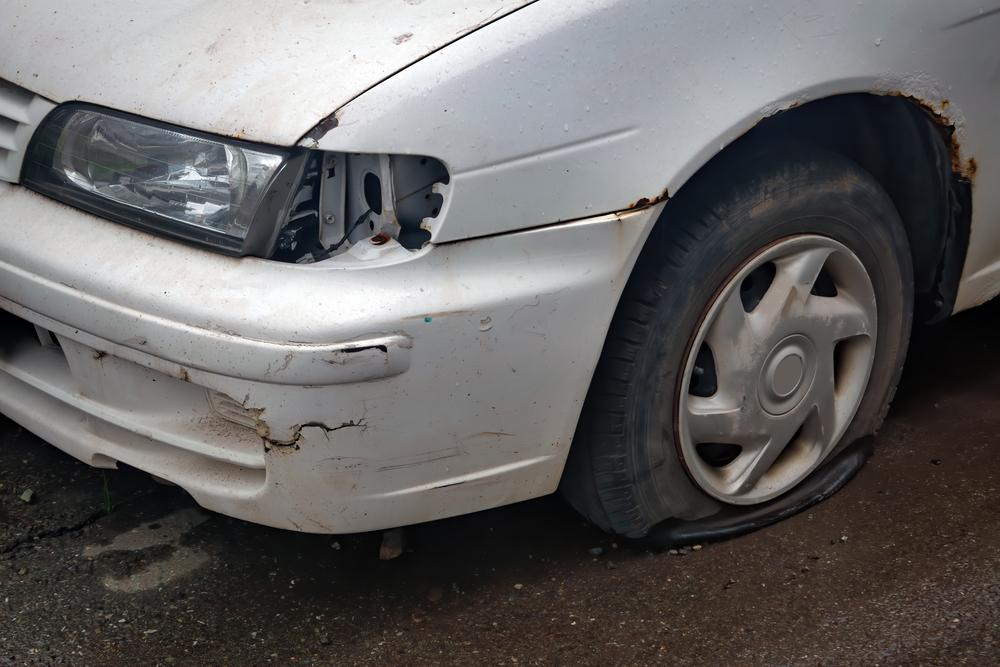crack: (261, 418, 368, 451)
tire flat: (563, 130, 924, 542)
